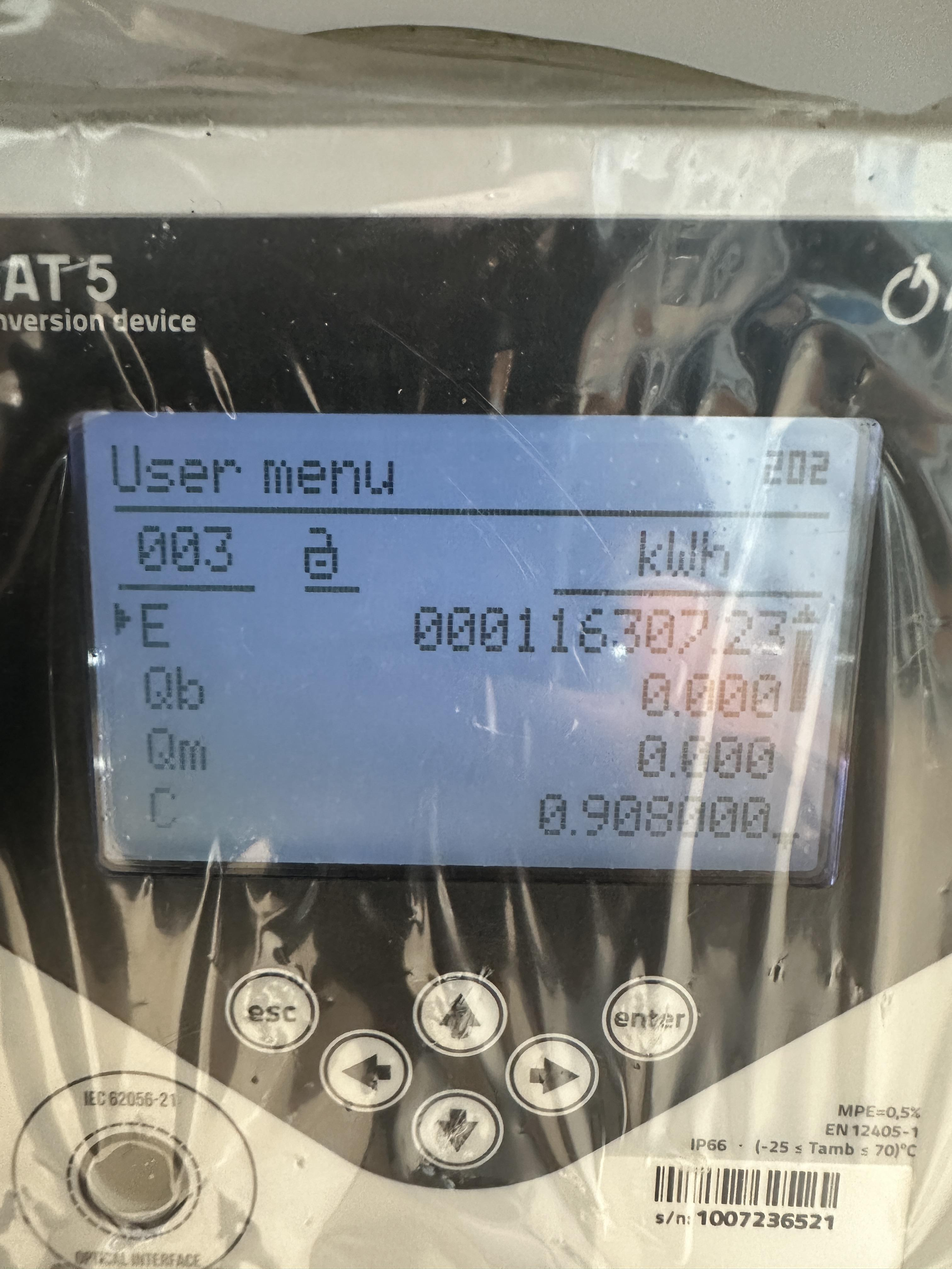digital_screen: (78, 406, 854, 871)
